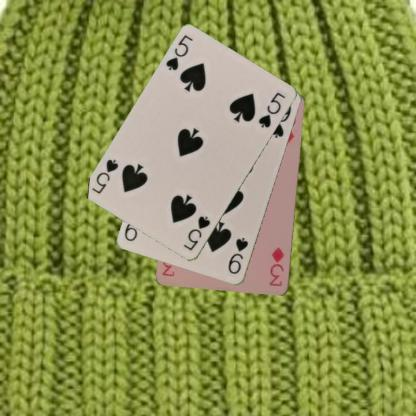3d: (267, 245, 286, 288)
5s: (163, 32, 195, 72), (181, 214, 212, 252)
9s: (225, 235, 250, 276)
